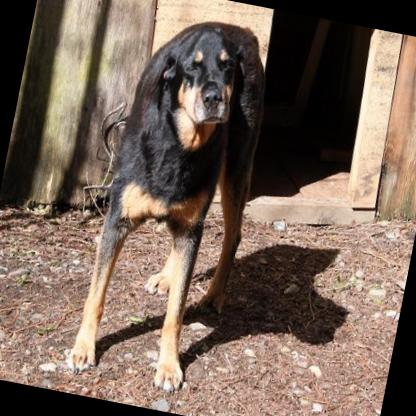Rottweiler: (60, 3, 282, 399)
